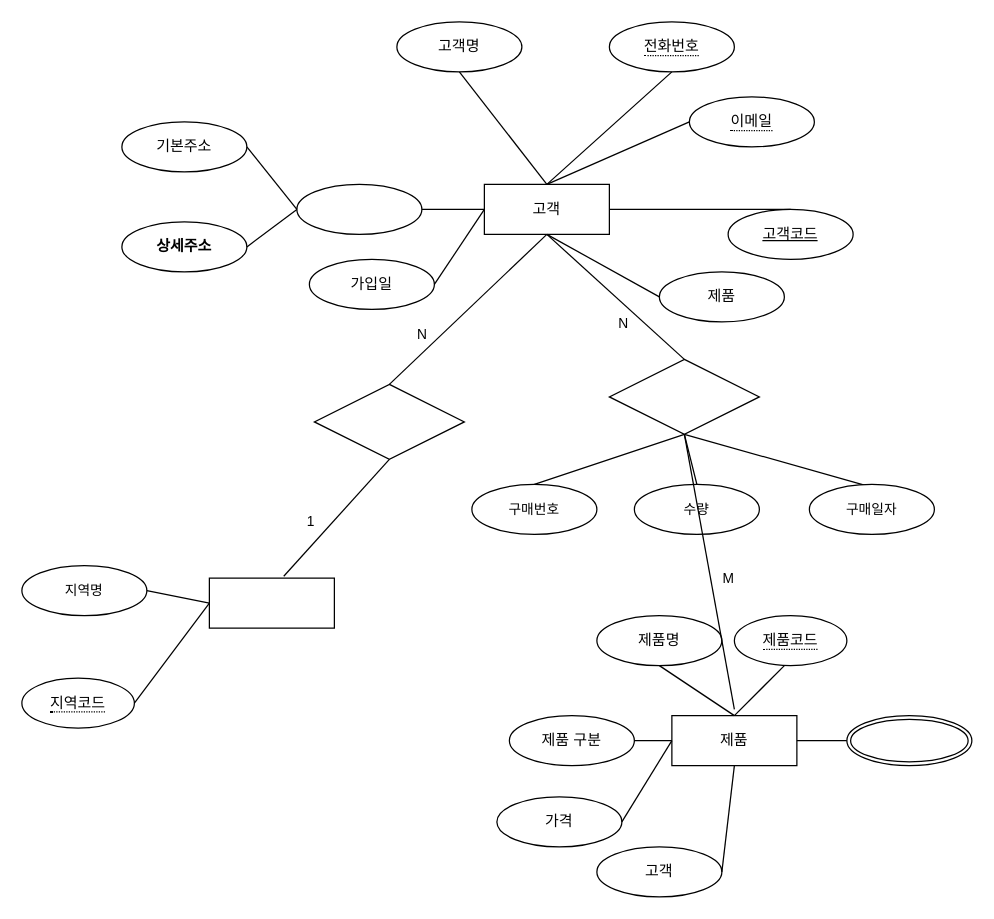
Image size: 994x919. Some labels were removed from this diagram. The centre of each missing label's shape, as x and y in pixels:
관리: point (388, 421)
구매: point (683, 396)
제품속성: point (909, 740)
주소: point (359, 208)
지역: point (271, 602)
